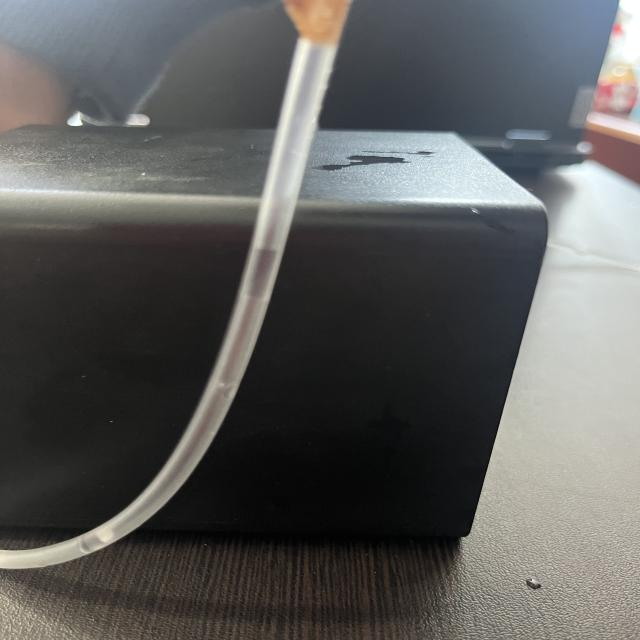bubble: (238, 226, 320, 275), (91, 511, 141, 552), (191, 376, 257, 406)
